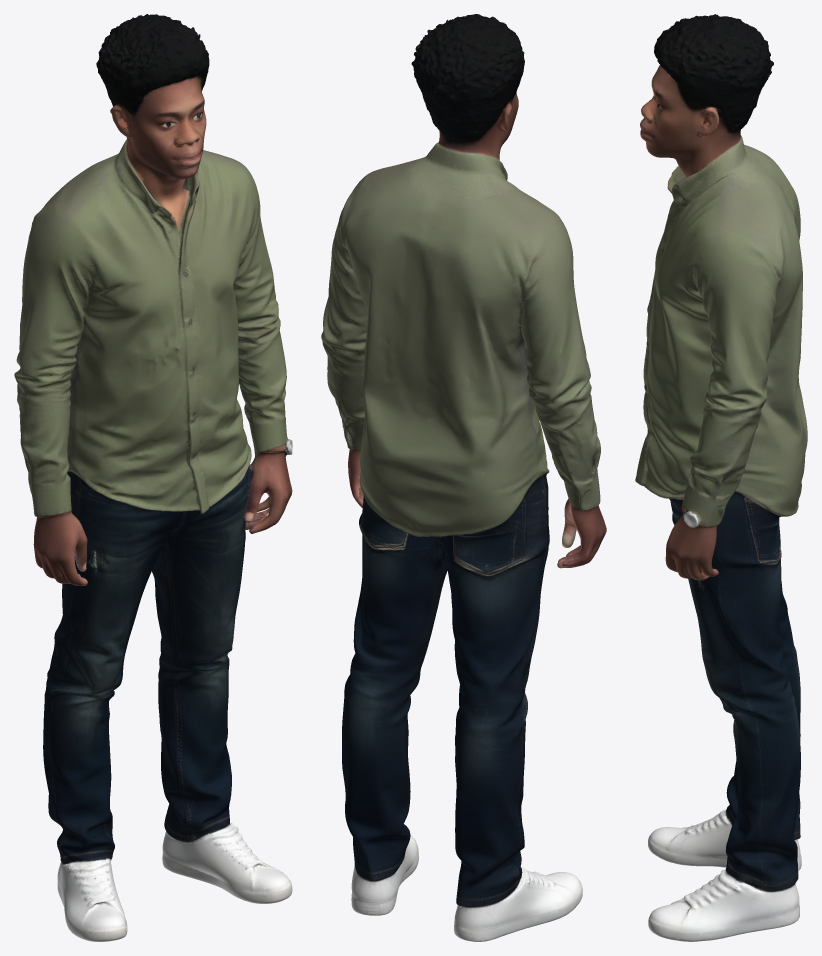
The model's file is person-casual-15.glb.
3 renders of one model, left to right at view 1: azimuth 30°, elevation 25°; view 2: azimuth 150°, elevation 25°; view 3: azimuth 270°, elevation 25°, orthographic.
Visible parts, largest first — view 1: mesh_0; view 2: mesh_0; view 3: mesh_0.
Boxes of the visible parts, <box> form: mesh_0: <box>14,14,292,941</box>; mesh_0: <box>321,14,606,941</box>; mesh_0: <box>635,14,807,941</box>.
Bounding box in the file's own units: 0.59 × 1.9 × 0.3409.
Materials: 1 (1 with a texture image).
